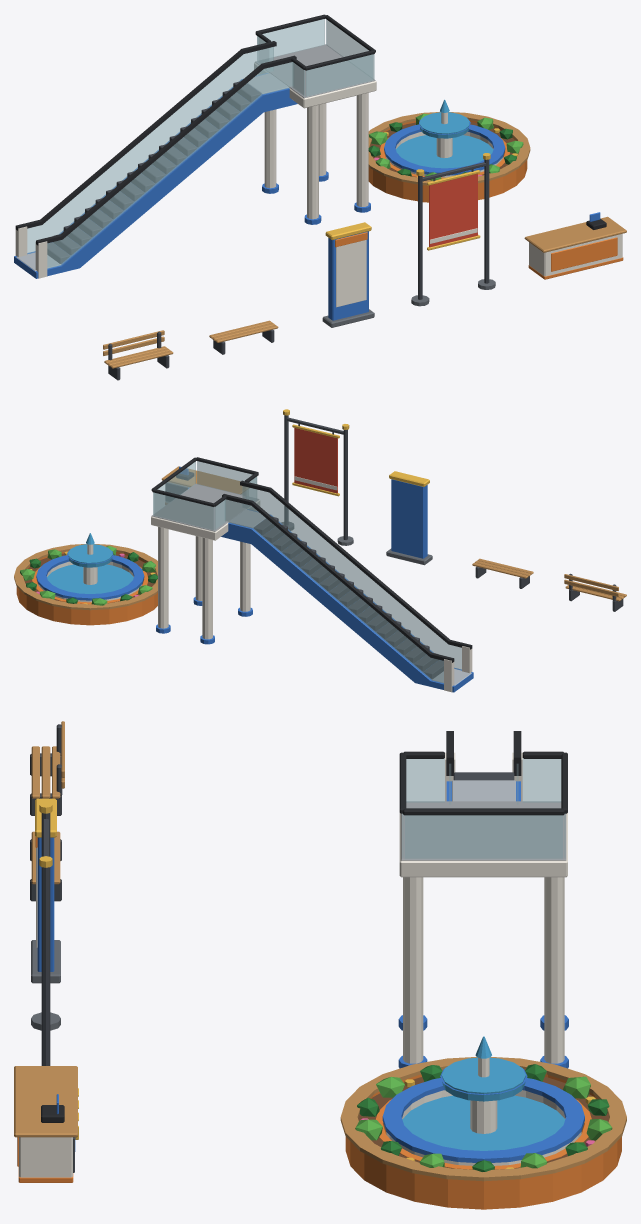
The model's file is mall-atrium-set.glb.
3 views of the same model, one above another, from view 1: azimuth 30°, elevation 25°; view 2: azimuth 150°, elevation 25°; view 3: azimuth 270°, elevation 25° (orthographic). The views are drawn at different scales.
Parts seen in each view (by area): view 1: Esc_Glass_R, Esc_Glass_L, Esc_Truss, Esc_DeckFloor, Banner_Cloth, Fountain_Water, Esc_Handrail_L, Esc_Handrail_R, Planter_Ledge, Directory_Panel, Planter_OuterWall, Esc_DeckGlass_2 (+18 smaller); view 2: Esc_Glass_L, Esc_Glass_R, Esc_Truss, Directory_Body, Esc_DeckFloor, Banner_Cloth, Planter_OuterWall, Planter_Ledge, Fountain_Water, Esc_Handrail_R, Esc_Handrail_L, Fountain_BasinRim (+15 smaller); view 3: Esc_DeckFloor, Planter_OuterWall, Esc_DeckGlass_0, Planter_Ledge, Fountain_Water, Fountain_BasinRim, Counter_Top, Esc_Column_2, Esc_Column_3, Esc_Deck, Fountain_Spill, Counter_Body (+13 smaller).
Boxes of the visible parts, box(x1,y1,x2,y2) form: Esc_Glass_R: box(47, 62, 293, 268); Esc_Glass_L: box(27, 47, 273, 253); Esc_Truss: box(14, 73, 297, 278); Esc_DeckFloor: box(255, 44, 375, 98); Banner_Cloth: box(429, 173, 477, 247); Fountain_Water: box(396, 135, 493, 168); Esc_Handrail_L: box(15, 41, 276, 230); Esc_Handrail_R: box(36, 55, 296, 245); Planter_Ledge: box(368, 112, 530, 185); Directory_Panel: box(336, 240, 366, 307); Planter_OuterWall: box(368, 120, 527, 202); Esc_DeckGlass_2: box(305, 54, 373, 96); Esc_Glass_L: box(224, 499, 443, 683); Esc_Glass_R: box(242, 486, 461, 670); Esc_Truss: box(221, 509, 473, 692); Directory_Body: box(391, 479, 427, 558); Esc_DeckFloor: box(152, 483, 258, 531); Banner_Cloth: box(294, 428, 337, 493); Planter_OuterWall: box(16, 551, 157, 625); Planter_Ledge: box(14, 544, 157, 610); Fountain_Water: box(47, 564, 133, 593); Esc_Handrail_R: box(240, 480, 472, 649); Esc_Handrail_L: box(222, 494, 454, 662); Fountain_BasinRim: box(36, 555, 144, 600); Esc_DeckFloor: box(401, 801, 566, 860); Planter_OuterWall: box(345, 1074, 621, 1209); Esc_DeckGlass_0: box(404, 815, 562, 858); Planter_Ledge: box(340, 1057, 626, 1181); Fountain_Water: box(402, 1095, 565, 1150); Fountain_BasinRim: box(382, 1078, 584, 1162); Counter_Top: box(14, 1066, 77, 1137); Esc_Column_2: box(544, 877, 564, 1063); Esc_Column_3: box(403, 877, 423, 1063); Esc_Deck: box(399, 813, 567, 877); Fountain_Spill: box(441, 1057, 525, 1101); Counter_Body: box(19, 1137, 72, 1177).
Bounding box in the file's own units: 62 × 17.4 × 36.4.
